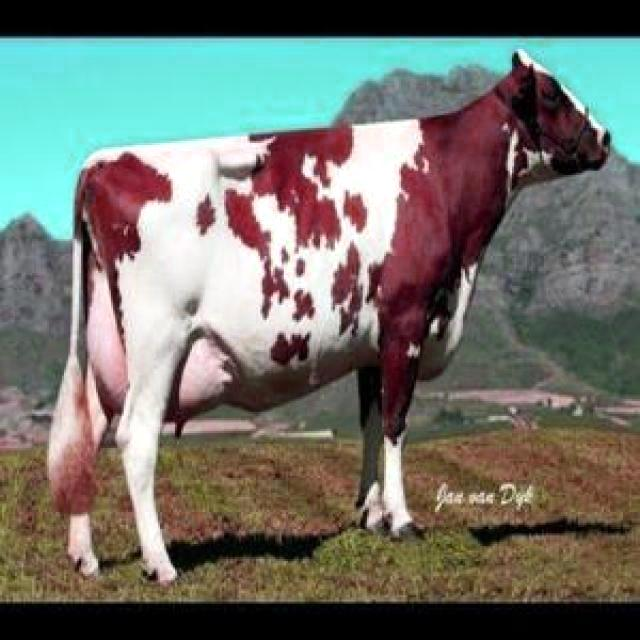COW: (50, 51, 610, 582)
